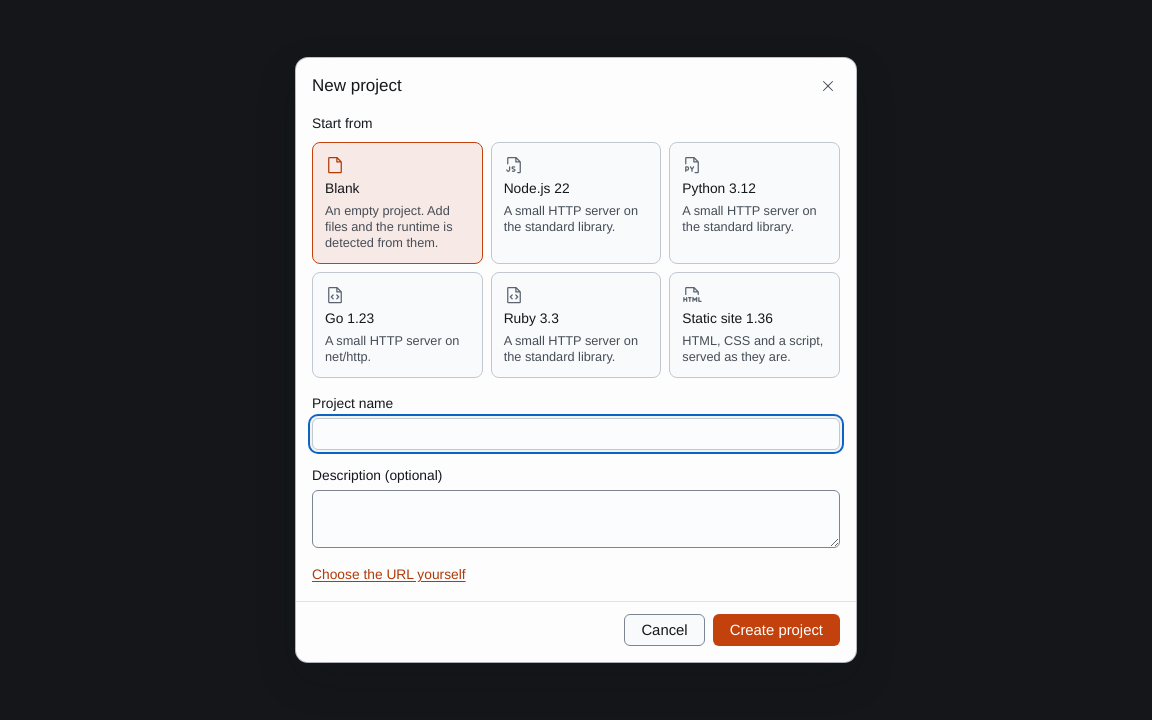
Scenario: CreateProjectDialog › refuses a reserved URL on blur, before any request
The width and height of the screenshot is (1152, 720).
Type "Engine" into the field labelled "Project name". click: (576, 434)
box: [313, 419, 839, 449]
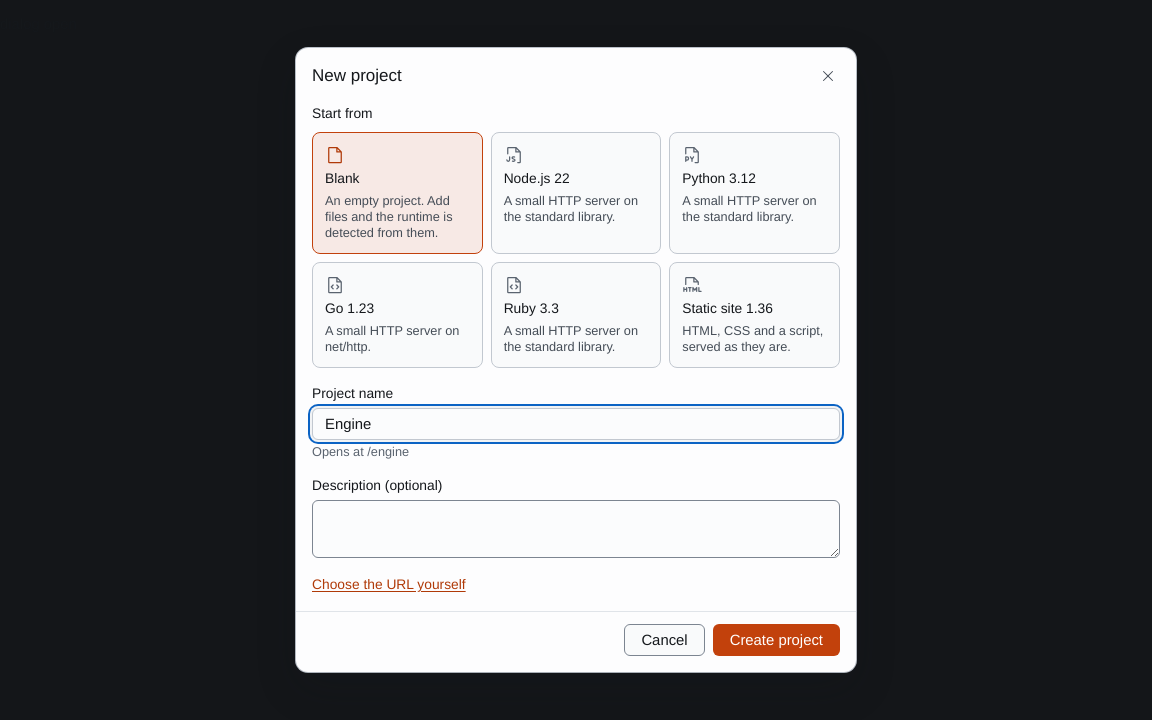
Click the button "Choose the URL yourself". click: click(389, 585)
box: [312, 575, 466, 595]
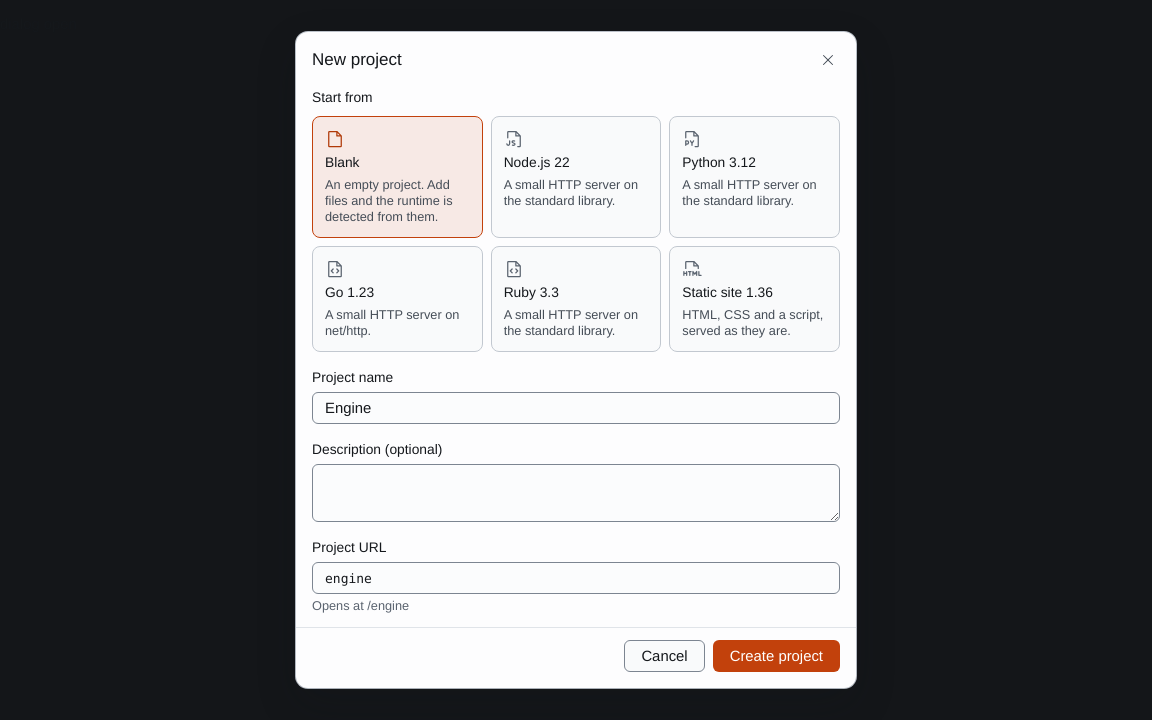
Replace the text in the field labelled "Project URL" with "api". click: (576, 578)
box: [313, 563, 839, 593]
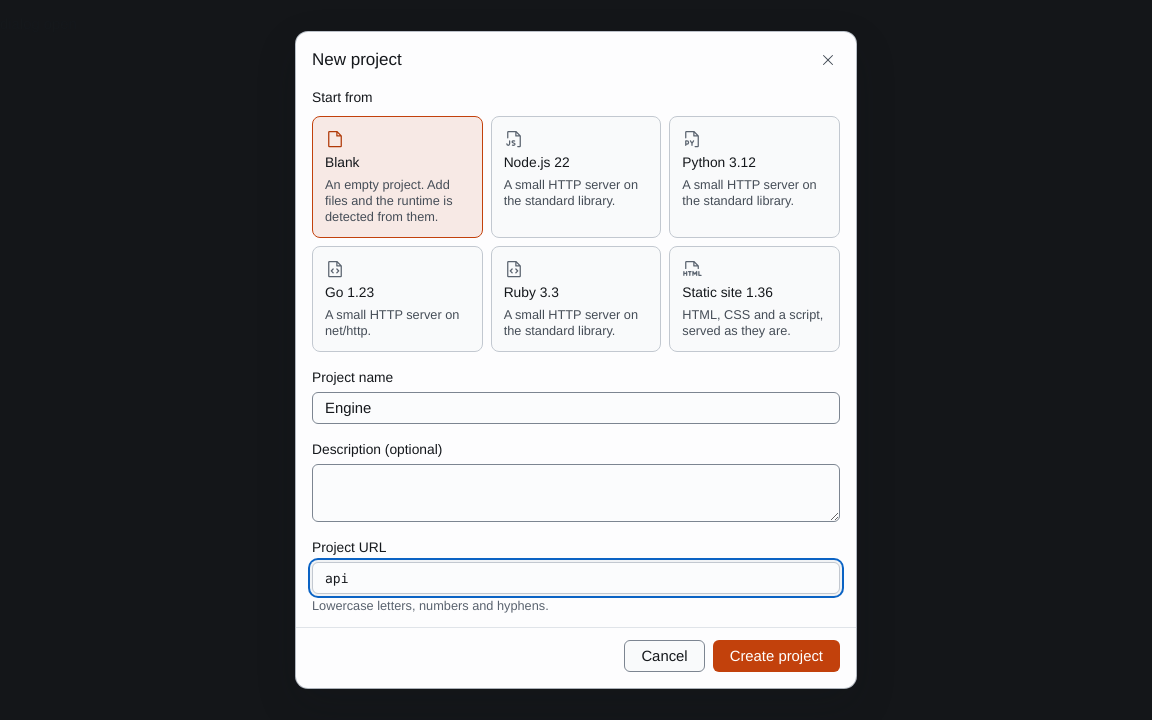
Press Tab
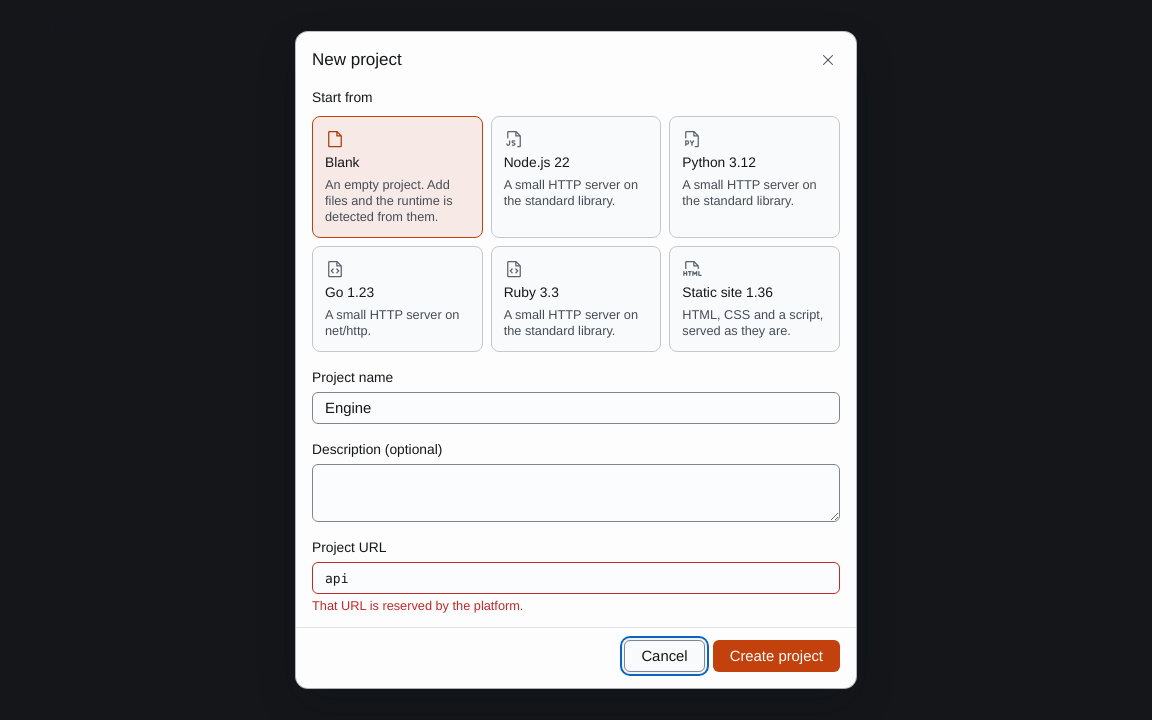
Result: the text "That URL is reserved by the platform." is shown at [312, 598, 523, 614]
